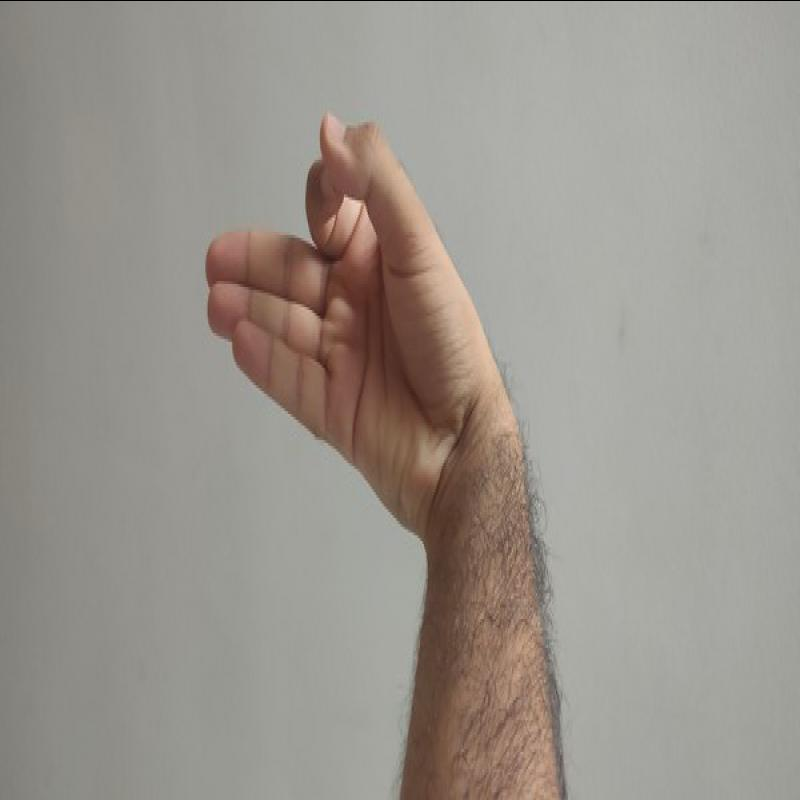Mudraakhyam: (181, 94, 479, 514)
